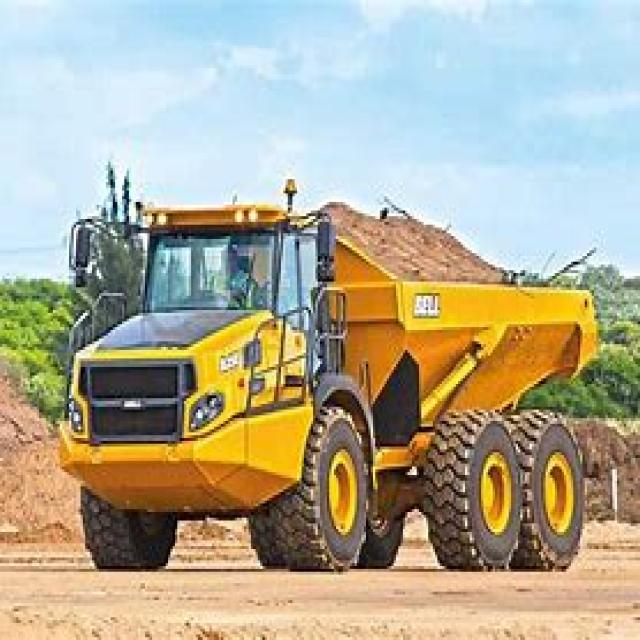dump_truck: (49, 179, 598, 575)
